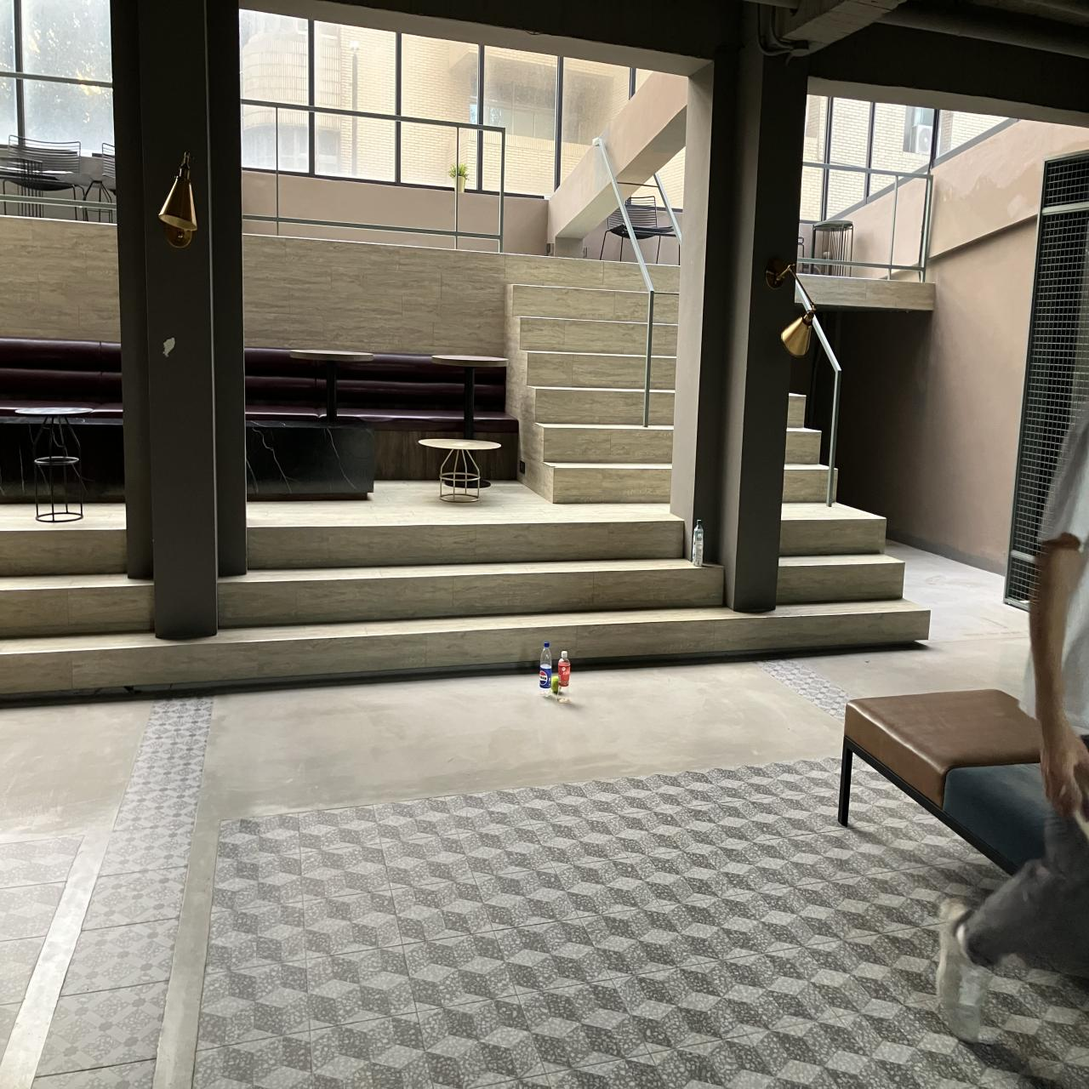person: (938, 405, 1088, 1040)
plastic-bottle: (539, 641, 552, 696), (557, 652, 570, 702), (692, 519, 704, 567)
tennisball: (551, 676, 559, 692)
